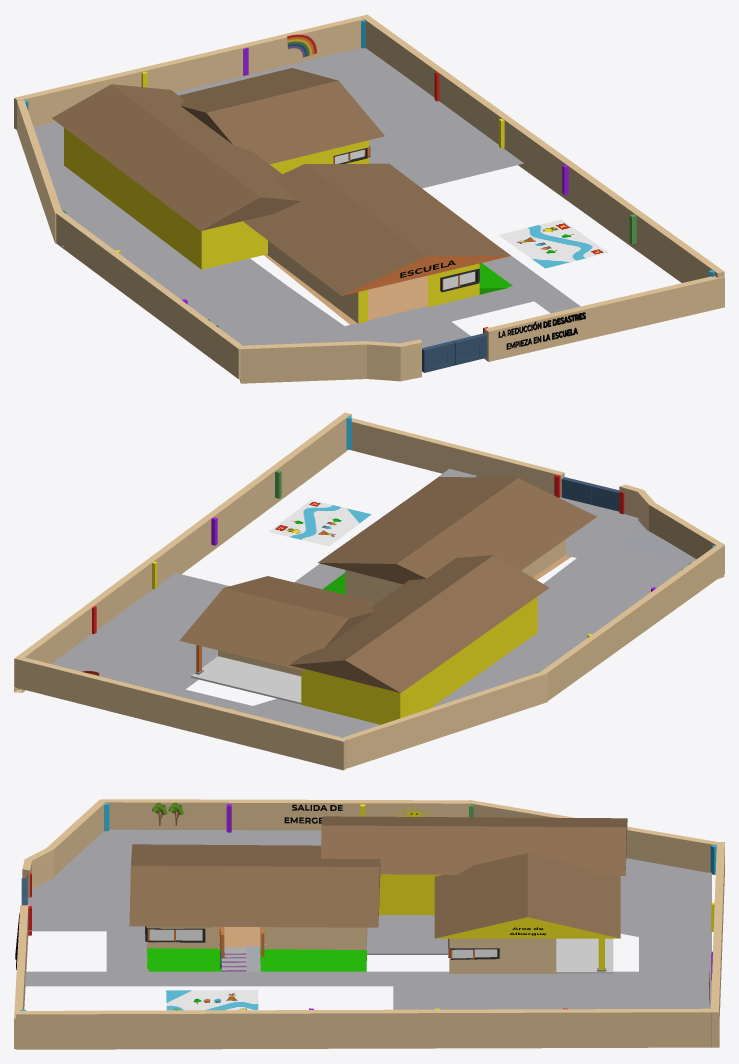
The model's file is EscuelaCorrectaFinal.glb.
3 renders of one model, top to bottom at view 1: azimuth 30°, elevation 25°; view 2: azimuth 150°, elevation 25°; view 3: azimuth 270°, elevation 25°, orthographic. The views are drawn at different scales.
Parts seen in each view (by area): view 1: Techo_Modulo_Frente, Techo_Modulo_Trasero, Plano.012, Techo_Albergue, TapialadoDerecho.001, TapiaLadoTrasero, TapiaFrente, Modulo_Trasero, TapiaLadoIzquierdo, Plano.005, TapiaFente1.1, Plano.004 (+18 smaller); view 2: Techo_Modulo_Frente, Techo_Modulo_Trasero, TapiaLadoTrasero, Techo_Albergue, TapialadoDerecho.001, Plano.012, Modulo_Trasero, Plano.005, TapiaLadoIzquierdo1.1, TapiaLadoIzquierdo, TapiaFrente, Plano.004 (+14 smaller); view 3: TapialadoDerecho.001, Techo_Modulo_Frente, TapialadoDerecho, Techo_Modulo_Trasero, Techo_Albergue, Plano.012, TapiaLadoIzquierdo, Plano.003, Plano, Rampa_Superficie.001, Plano.014, TapiaLadoIzquierdo1.1 (+20 smaller).
Part boxes in pixels (<box>): Techo_Modulo_Frente: <box>243,163,510,295</box>; Techo_Modulo_Trasero: <box>52,84,300,230</box>; Plano.012: <box>240,48,523,188</box>; Techo_Albergue: <box>179,68,384,164</box>; TapialadoDerecho.001: <box>361,14,724,281</box>; TapiaLadoTrasero: <box>14,15,364,129</box>; TapiaFrente: <box>484,276,724,361</box>; Modulo_Trasero: <box>64,128,267,269</box>; TapiaLadoIzquierdo: <box>55,210,244,379</box>; Plano.005: <box>189,285,364,345</box>; TapiaFente1.1: <box>240,339,421,379</box>; Plano.004: <box>105,226,285,306</box>; Techo_Modulo_Frente: <box>318,476,596,584</box>; Techo_Modulo_Trasero: <box>290,555,549,692</box>; TapiaLadoTrasero: <box>14,657,347,770</box>; Techo_Albergue: <box>179,576,376,671</box>; TapialadoDerecho.001: <box>14,412,351,687</box>; Plano.012: <box>51,573,229,693</box>; Modulo_Trasero: <box>301,596,537,724</box>; Plano.005: <box>537,542,689,621</box>; TapiaLadoIzquierdo1.1: <box>343,671,547,768</box>; TapiaLadoIzquierdo: <box>540,543,724,700</box>; TapiaFrente: <box>349,418,564,497</box>; Plano.004: <box>478,604,608,682</box>; TapialadoDerecho.001: <box>15,1008,719,1044</box>; Techo_Modulo_Frente: <box>129,844,380,927</box>; TapialadoDerecho: <box>15,1017,719,1049</box>; Techo_Modulo_Trasero: <box>321,816,627,875</box>; Techo_Albergue: <box>434,853,620,938</box>; Plano.012: <box>393,975,709,1009</box>; TapiaLadoIzquierdo: <box>100,799,471,830</box>; Plano.003: <box>639,872,711,1008</box>; Plano: <box>25,971,647,986</box>; Rampa_Superficie.001: <box>147,948,366,971</box>; Plano.014: <box>620,858,706,937</box>; TapiaLadoIzquierdo1.1: <box>467,800,716,874</box>.
Size of the model in its own units: 13.93 by 2.21 by 19.41.
90 materials, 5 textured.
